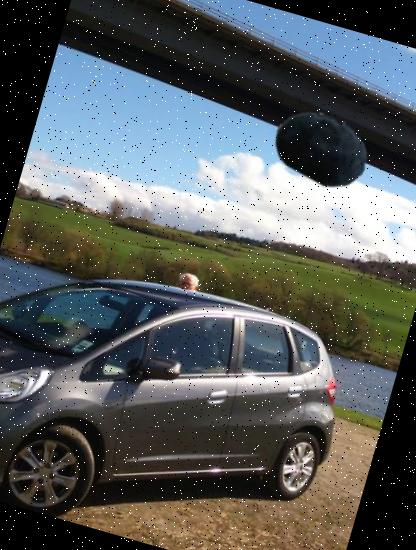Blueberry: (262, 88, 381, 207)
